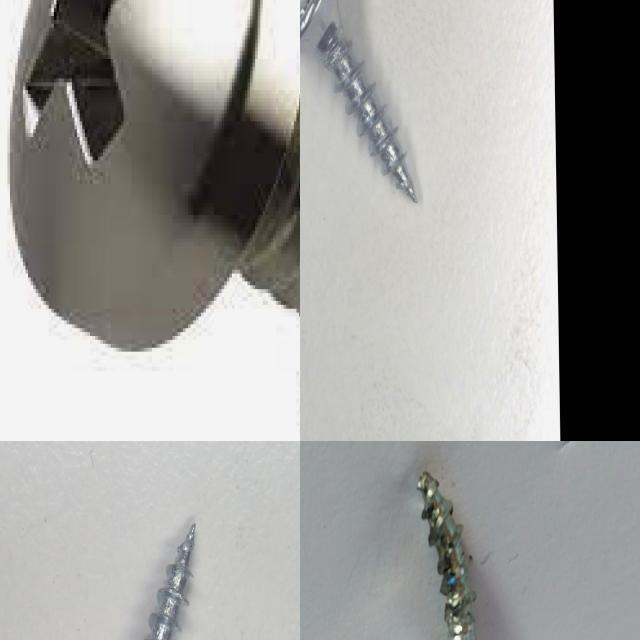Screw: (5, 0, 300, 356), (300, 0, 417, 201), (418, 471, 478, 640), (144, 522, 195, 640)
